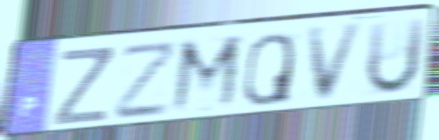M: (167, 32, 246, 118)
Q: (240, 30, 296, 108)
U: (363, 15, 428, 98)
V: (305, 19, 367, 105)
Z: (113, 37, 181, 123), (51, 45, 115, 128)
